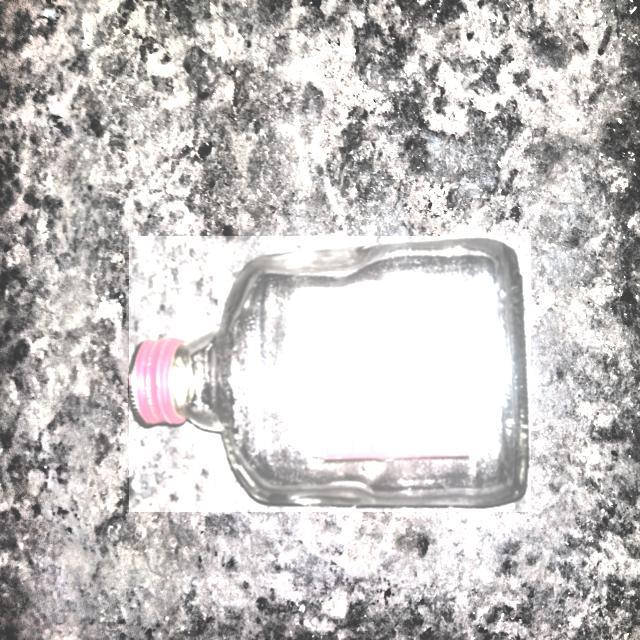anorganik: (129, 236, 531, 511)
